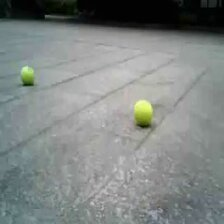tennis: (133, 100, 152, 125), (19, 67, 34, 84)
